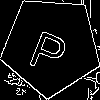P: (26, 21, 74, 76)
